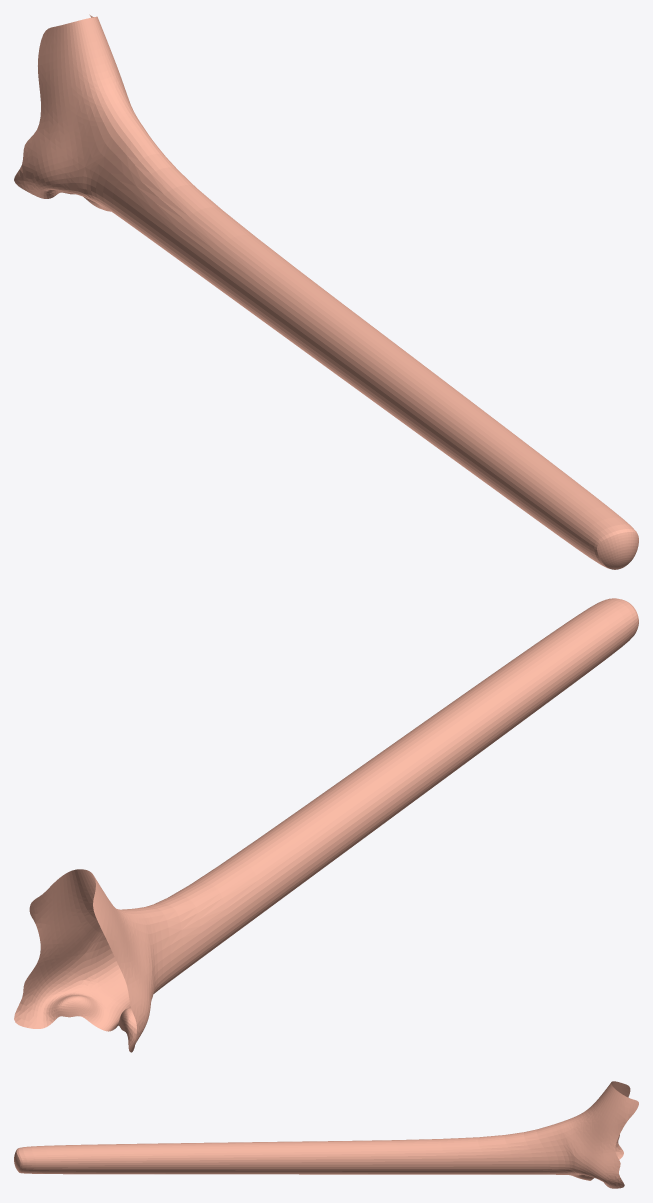
3 renders of one model, top to bottom at view 1: azimuth 30°, elevation 25°; view 2: azimuth 150°, elevation 25°; view 3: azimuth 270°, elevation 25°, orthographic. The views are drawn at different scales.
Parts seen in each view (by area): view 1: nose_; view 2: nose_; view 3: nose_.
Part boxes in pixels (x1=…): nose_: x1=14, y1=14, x2=638, y2=569; nose_: x1=14, y1=598, x2=638, y2=1052; nose_: x1=14, y1=1081, x2=638, y2=1188.
Bounding box in the file's own units: 0.0385 × 0.0537 × 0.3121.
